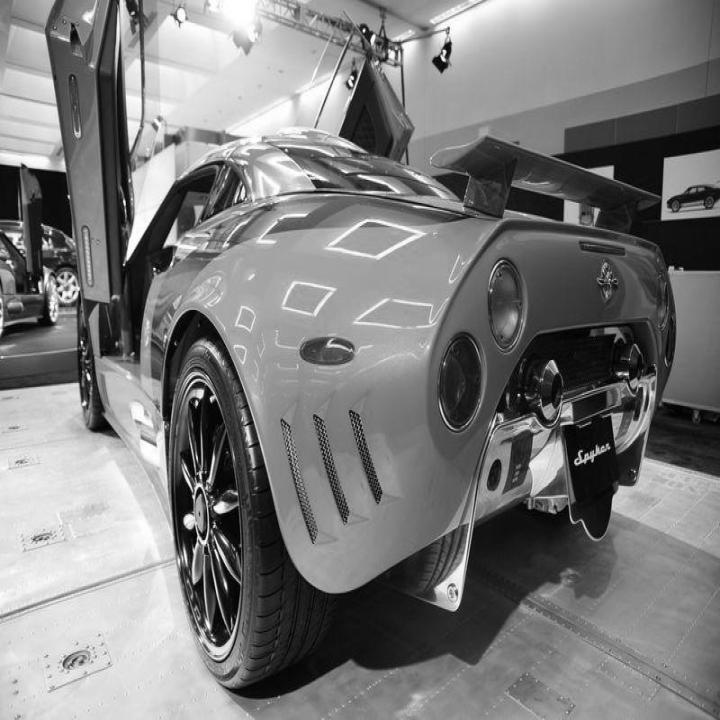car: (43, 0, 678, 692), (0, 162, 59, 344), (0, 221, 80, 308), (666, 182, 719, 212)
